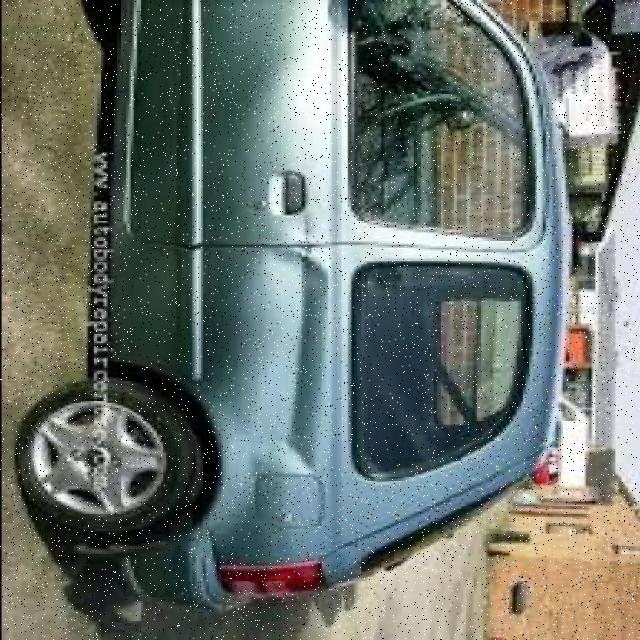damage: (233, 208, 333, 484)
